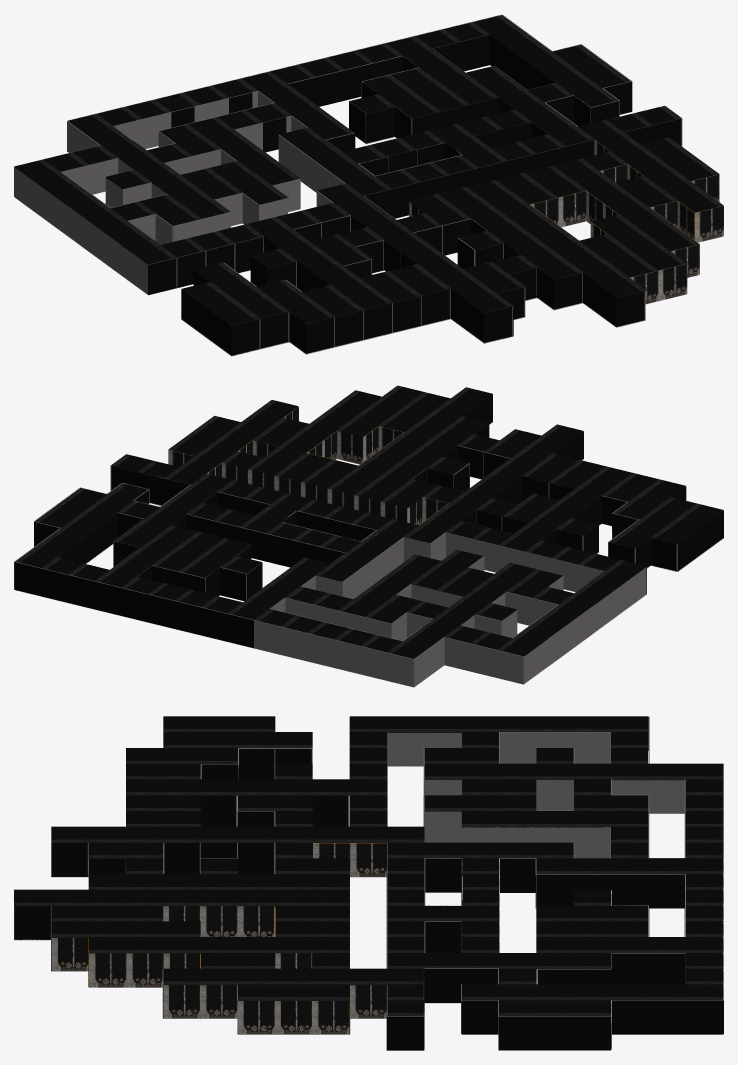
File: Level.fbx
The picture shows the model from 3 angles, top to bottom: view 1: azimuth 30°, elevation 25°; view 2: azimuth 150°, elevation 25°; view 3: azimuth 270°, elevation 25°; orthographic projection. The views are drawn at different scales.
Visible parts, largest first — view 1: WallX.061, WallX.085, WallY.143, WallX.094, WallY.128, WallY.134, WallY.135, WallY.129, WallY.155, WallX.021, WallX.127, WallY.133 (+19 smaller); view 2: WallX.038, WallX.152, WallX.036, WallX.138, WallX.144, WallX.035, WallX.142, WallX.033, WallX.106, WallX.139, WallX.180, WallX.107 (+17 smaller); view 3: WallX.026, WallX.046, WallX.088, WallX.153, WallX.045, WallX.048, WallX.049, WallX.154, WallX.032, WallX.176, WallX.027, WallX.089 (+249 smaller).
Part boxes in pixels (box(x1,y1,x2,y2)): WallX.061: box(316, 70, 345, 106); WallX.085: box(658, 264, 687, 300); WallY.143: box(148, 258, 177, 294); WallX.094: box(694, 206, 723, 242); WallY.128: box(483, 306, 512, 343); WallY.134: box(260, 312, 289, 348); WallY.135: box(231, 319, 260, 355); WallY.129: box(421, 289, 450, 325); WallY.155: box(616, 290, 645, 327); WallX.021: box(365, 107, 394, 143); WallX.127: box(558, 190, 586, 227); WallY.133: box(305, 317, 334, 353); WallX.038: box(386, 652, 413, 686); WallX.152: box(14, 562, 41, 595); WallX.036: box(333, 639, 360, 673); WallX.138: box(200, 607, 227, 641); WallX.144: box(67, 574, 94, 608); WallX.035: box(307, 633, 333, 667); WallX.142: box(94, 581, 120, 615); WallX.033: box(254, 620, 280, 654); WallX.106: box(444, 637, 470, 671); WallX.139: box(174, 600, 200, 634); WallX.180: box(227, 613, 253, 647); WallX.107: box(470, 643, 496, 677); WallX.026: box(386, 1016, 423, 1050); WallX.046: box(536, 1016, 573, 1050); WallX.088: box(89, 953, 126, 987); WallX.153: box(649, 1000, 686, 1034); WallX.045: box(573, 1016, 610, 1050); WallX.048: box(499, 1016, 536, 1050); WallX.049: box(686, 1000, 723, 1034); WallX.154: box(612, 1000, 649, 1034); WallX.032: box(461, 1000, 498, 1034); WallX.176: box(647, 874, 684, 908); WallX.027: box(424, 968, 461, 1002); WallX.089: box(126, 953, 163, 987).
Bounding box in the file's own units: 7615 × 415 × 7610.
